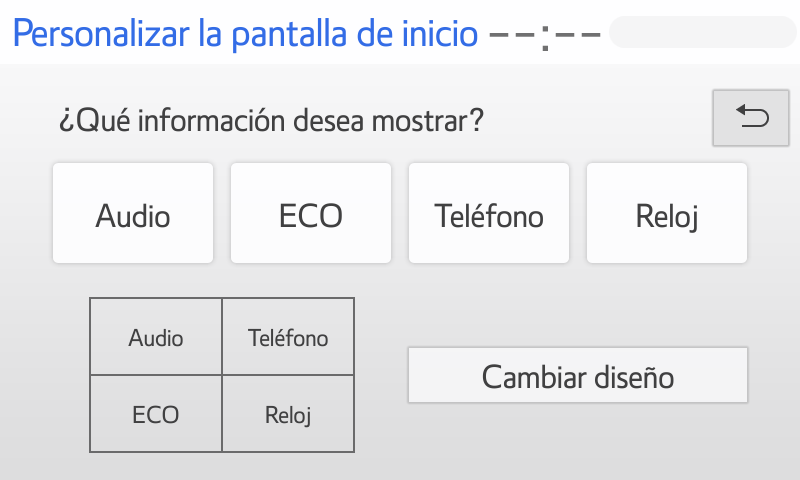touchPart: (399, 341, 755, 409), (583, 159, 754, 280), (403, 157, 575, 269), (228, 159, 401, 267), (53, 162, 216, 269), (707, 84, 792, 156)
untouchPart: (16, 10, 482, 55), (53, 97, 495, 144), (489, 11, 796, 55)
